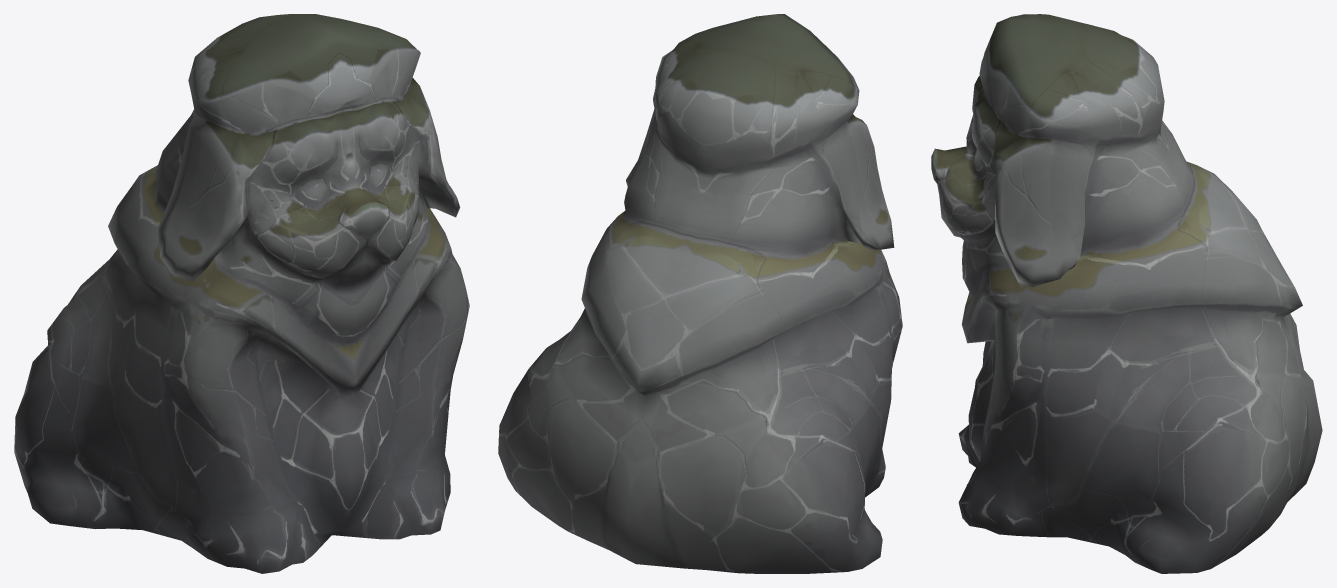
The model's file is PR_Dobachi.gltf.
3 renders of one model, left to right at view 1: azimuth 30°, elevation 25°; view 2: azimuth 150°, elevation 25°; view 3: azimuth 270°, elevation 25°, orthographic. The views are drawn at different scales.
Visible parts, largest first — view 1: PR_Dobachi; view 2: PR_Dobachi; view 3: PR_Dobachi.
Boxes of the visible parts, x1,y1,x2,y2 form: PR_Dobachi: (14, 14, 469, 573); PR_Dobachi: (498, 14, 902, 573); PR_Dobachi: (931, 14, 1322, 573).
Bounding box in the file's own units: 2.56 × 3.06 × 2.32.
Materials: 1 (1 with a texture image).
